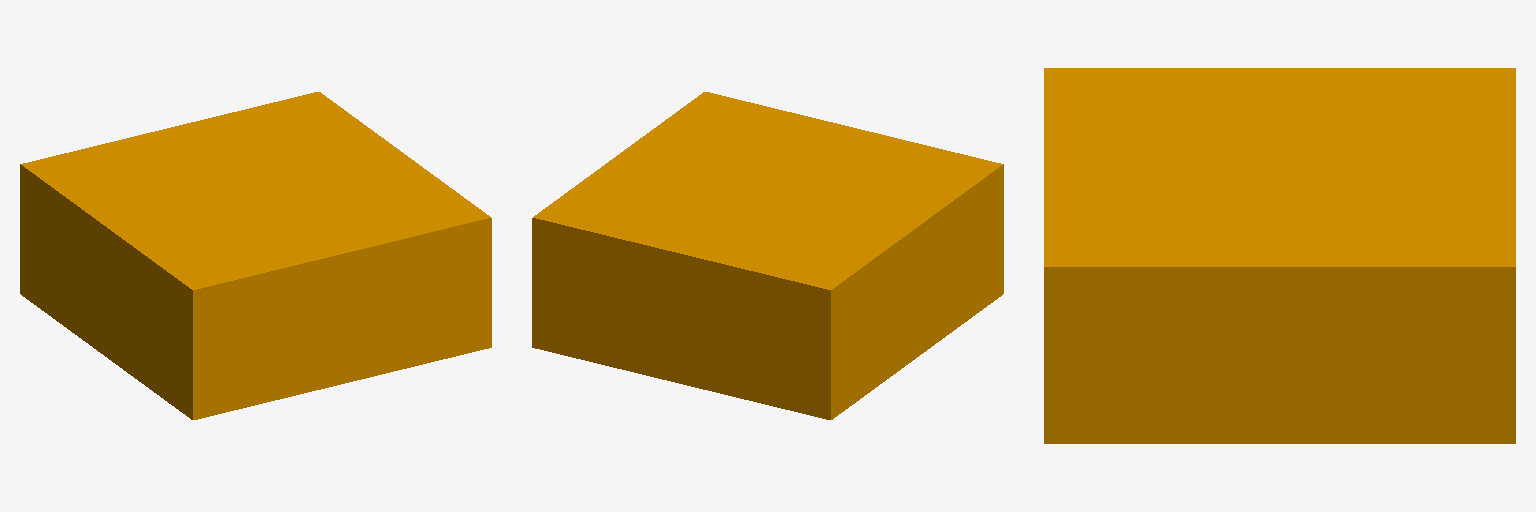
The robot description file, URDF, robot "object":
<?xml version="1.0"?>
<robot name="object">
  <!-- <link name="world"/> -->

  <link name="link">
    <inertial>
      <origin xyz="0.05 0 0" rpy="0 0 0"/>
      <mass value="1.0"/>
      <inertia ixx="0.00144" ixy="0.0" ixz="0.0" iyy="0.00144" iyz="0.0" izz="0.00144"/>
    </inertial>
    <collision>
      <geometry>
        <box size="0.12 0.12 0.05"/>
      </geometry>
      <surface>
        <friction>
          <ode>
            <mu>0.5</mu>
            <mu2>0.5</mu2>
          </ode>
          <torsional>
            <coefficient>0.0</coefficient>
            <patch_radius>0.1</patch_radius>
          </torsional>
        </friction>
      </surface>
    </collision>
    <visual>
      <geometry>
        <box size="0.12 0.12 0.05"/>
      </geometry>
    </visual>
  </link>

  <gazebo>
    <plugin name="gazebo_ros_control" filename="libgazebo_ros_control.so">
      <robotNamespace>/object</robotNamespace>
      <robotSimType>gazebo_ros_control/DefaultRobotHWSim</robotSimType>
      <legacyModeNS>true</legacyModeNS>
    </plugin>
  </gazebo>
  <gazebo reference="link">
    <material>Gazebo/Red</material>
    <plugin name="franka_push_gazebo" filename="libobject_params_updater.so"/>
  </gazebo>
</robot>

--- What the picture shows (computed from the rendered views, not written in the file) ---
3 views of the same robot in one strip: view 1: azimuth 30°, elevation 25°; view 2: azimuth 150°, elevation 25°; view 3: azimuth 270°, elevation 25° (orthographic).
Model object with 1 links and 0 joints (none), rooted at link, posed every joint at zero.
Links seen in each view (by area): view 1: link; view 2: link; view 3: link.
Boxes of the visible links, box(x1,y1,x2,y2) form: link: box(20, 92, 491, 419); link: box(532, 92, 1003, 419); link: box(1044, 68, 1515, 443).
Size in the robot's own frame: 0.12 by 0.12 by 0.05 metres.
Geometry: primitives only (box / cylinder / sphere), no mesh files.